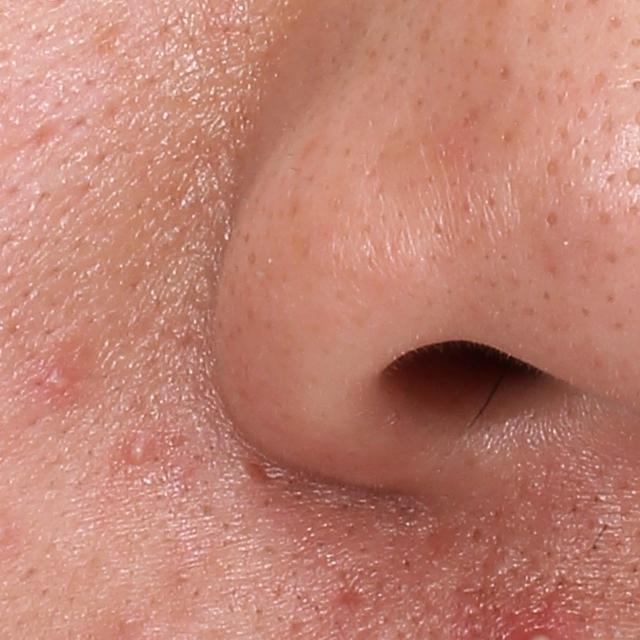atrophic_scar: (323, 570, 375, 614)
comedo: (539, 204, 565, 231)
pustule: (43, 368, 74, 397), (123, 441, 150, 467)
